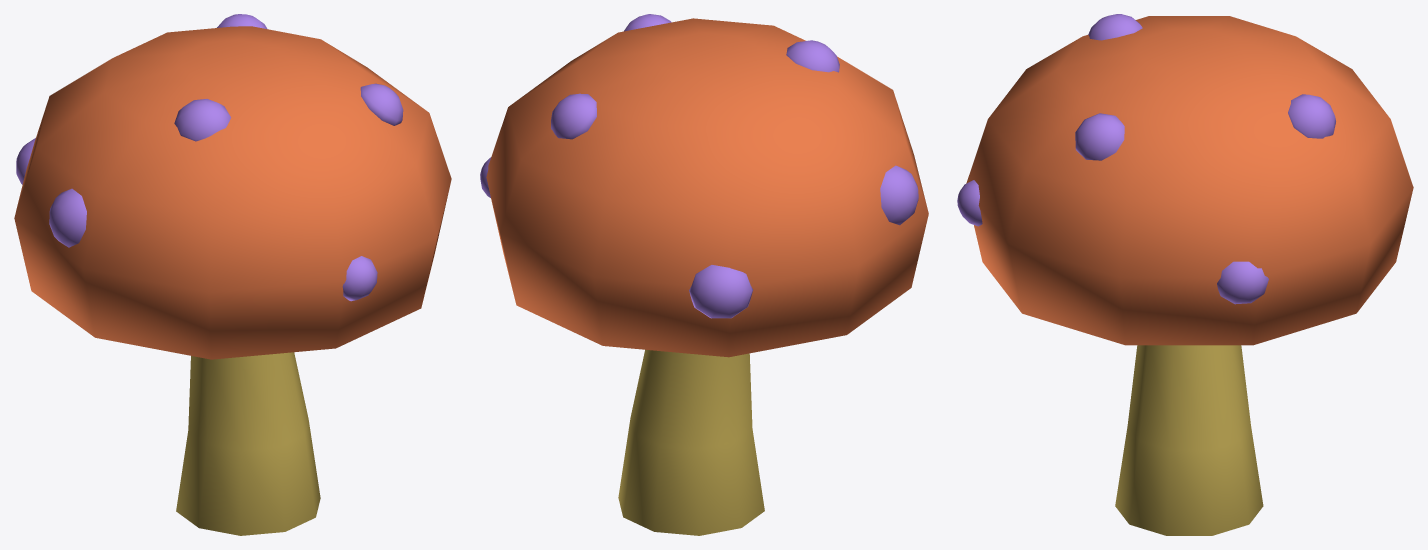
File: Mushroom_FlyAgaric_Orange_1.fbx
The picture shows the model from 3 angles, left to right: view 1: azimuth 30°, elevation 25°; view 2: azimuth 150°, elevation 25°; view 3: azimuth 270°, elevation 25°; orthographic projection.
Parts seen in each view (by area): view 1: Cylinder.531, Cylinder.530, Cylinder.529; view 2: Cylinder.531, Cylinder.530, Cylinder.529; view 3: Cylinder.531, Cylinder.530, Cylinder.529.
Part boxes in pixels (x1,y1,x2,y2): Cylinder.531: (14, 26, 451, 359); Cylinder.530: (176, 352, 320, 535); Cylinder.529: (16, 14, 403, 301); Cylinder.531: (486, 18, 928, 357); Cylinder.530: (618, 349, 764, 535); Cylinder.529: (480, 14, 918, 318); Cylinder.531: (966, 16, 1413, 345); Cylinder.530: (1115, 345, 1263, 535); Cylinder.529: (957, 14, 1335, 304).
Bounding box in the file's own units: 81.42 × 90.46 × 83.11.
